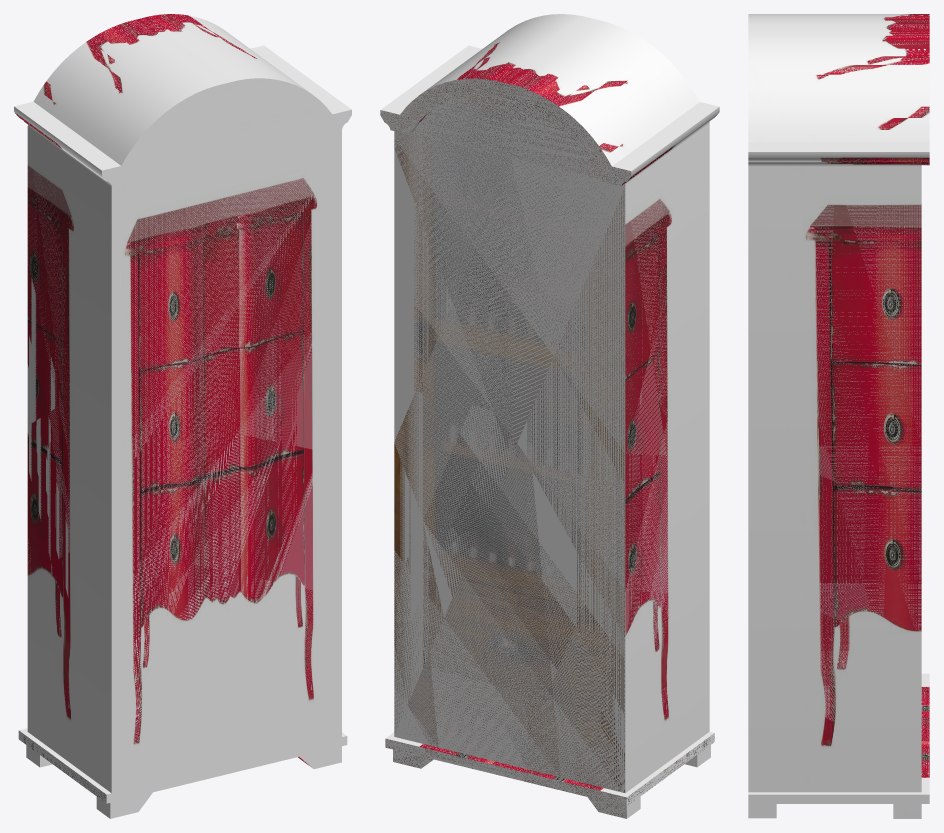
3 views of the same model, side by side, from view 1: azimuth 30°, elevation 25°; view 2: azimuth 150°, elevation 25°; view 3: azimuth 270°, elevation 25° (orthographic). The views are drawn at different scales.
Parts seen in each view (by area): view 1: mesh1_mesh1-geometry; view 2: mesh1_mesh1-geometry; view 3: mesh1_mesh1-geometry.
Part boxes in pixels (x1,y1,x2,y2): mesh1_mesh1-geometry: [14, 14, 351, 818]; mesh1_mesh1-geometry: [380, 14, 719, 818]; mesh1_mesh1-geometry: [748, 14, 929, 818].
Bounding box in the file's own units: 0.3395 × 0.9177 × 0.2065.
